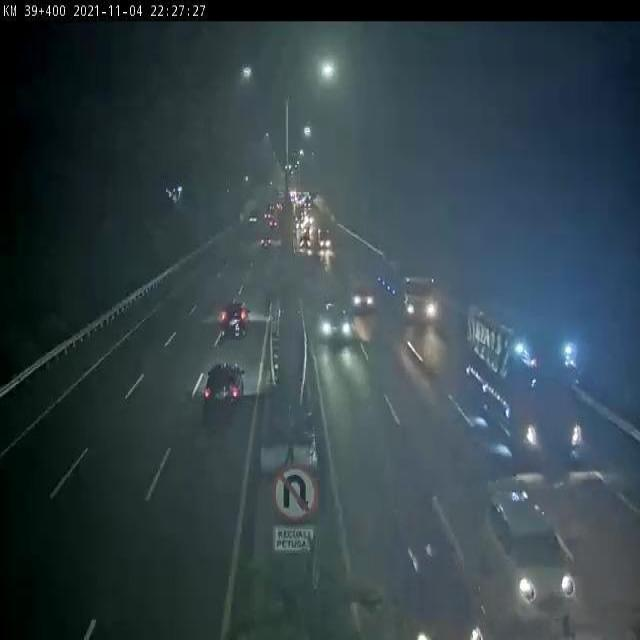Car: (488, 493, 578, 632), (203, 363, 248, 414), (316, 304, 353, 346), (218, 300, 252, 344), (349, 278, 376, 314)
Truck: (466, 301, 582, 468), (374, 258, 440, 324)
